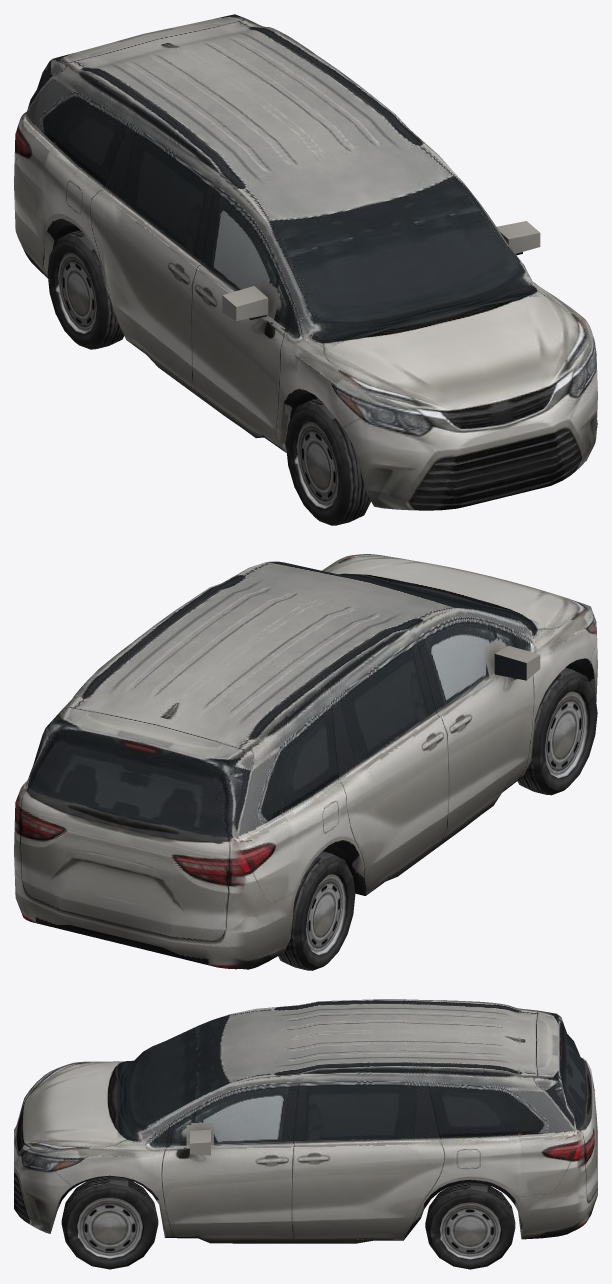
Rendered from van.glb.
The picture shows the model from 3 angles, top to bottom: view 1: azimuth 30°, elevation 25°; view 2: azimuth 150°, elevation 25°; view 3: azimuth 270°, elevation 25°; orthographic projection. The views are drawn at different scales.
Visible parts, largest first — view 1: body, wheel-front-right, wheel-back-right; view 2: body, wheel-front-right, wheel-back-right; view 3: body, wheel-front-left, wheel-back-left.
Boxes of the visible parts, left/top/right/bottom form: body: left=14, top=14, right=597, bottom=510; wheel-front-right: left=286, top=398, right=370, bottom=525; wheel-back-right: left=47, top=230, right=124, bottom=349; body: left=14, top=554, right=597, bottom=969; wheel-front-right: left=517, top=668, right=597, bottom=795; wheel-back-right: left=278, top=851, right=355, bottom=970; body: left=14, top=999, right=597, bottom=1243; wheel-front-left: left=61, top=1176, right=158, bottom=1269; wheel-back-left: left=425, top=1182, right=515, bottom=1269.
Size of the model in its own units: 2.31 by 1.87 by 5.11.
1 material, 1 textured.
